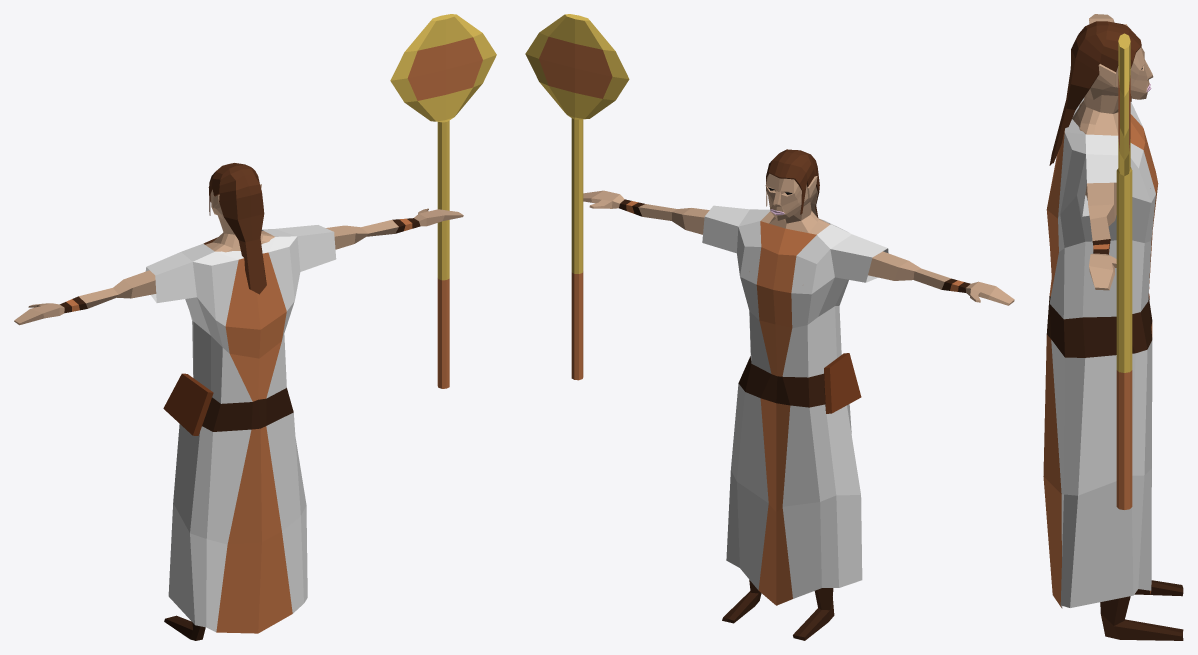
File: clerichumanlowp.fbx
The picture shows the model from 3 angles, left to right: view 1: azimuth 30°, elevation 25°; view 2: azimuth 150°, elevation 25°; view 3: azimuth 270°, elevation 25°; orthographic projection. The views are drawn at different scales.
Parts seen in each view (by area): view 1: dress, staff, body; view 2: dress, staff, body; view 3: dress, body, staff.
Boxes of the visible parts, left/top/right/bottom form: dress: left=145, top=225, right=336, bottom=633; staff: left=390, top=14, right=496, bottom=388; body: left=14, top=163, right=463, bottom=640; dress: left=702, top=205, right=888, bottom=605; staff: left=525, top=14, right=629, bottom=380; body: left=583, top=149, right=1014, bottom=640; dress: left=1043, top=97, right=1158, bottom=608; body: left=1049, top=14, right=1183, bottom=640; staff: left=1116, top=33, right=1132, bottom=509.
Size of the model in its own units: 268 by 293 by 52.64.
